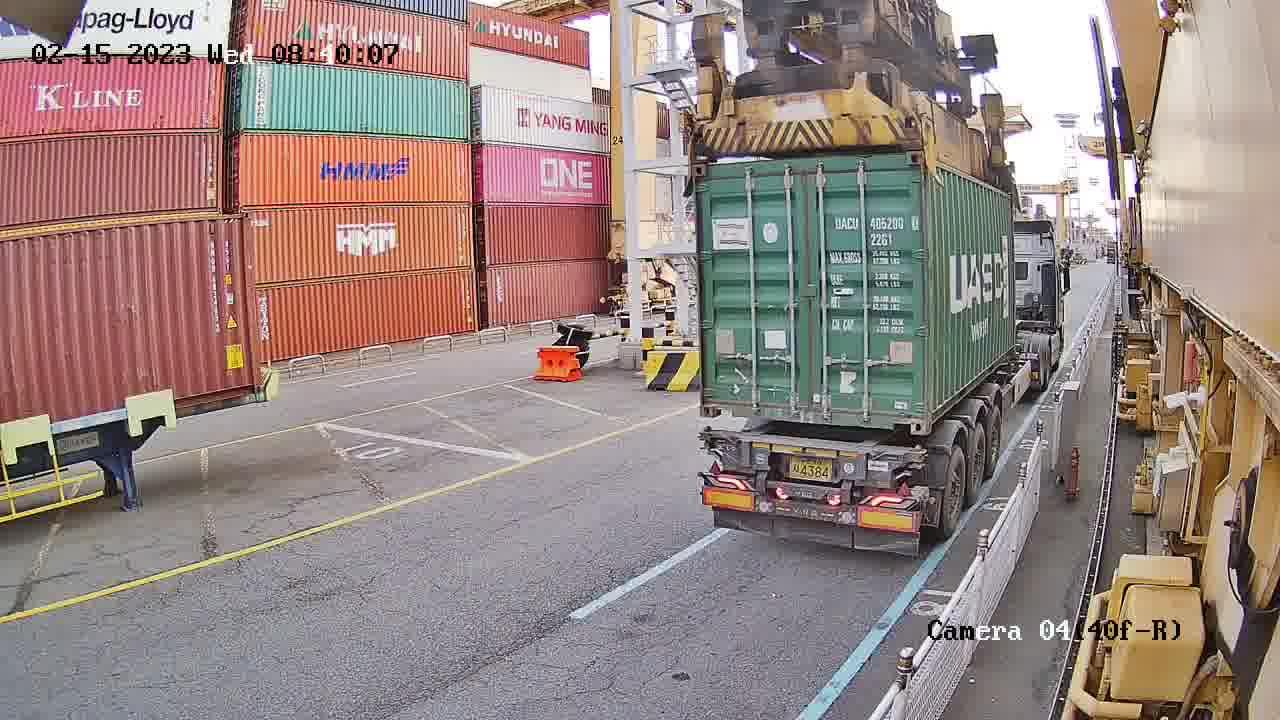Chassis: (705, 433, 926, 484)
Cone: (699, 424, 721, 457), (908, 445, 924, 471)
Hole_L: (699, 376, 740, 418)
Hole_R: (889, 382, 931, 439)
Tire: (944, 452, 967, 531), (968, 433, 988, 506), (991, 407, 1004, 473)
